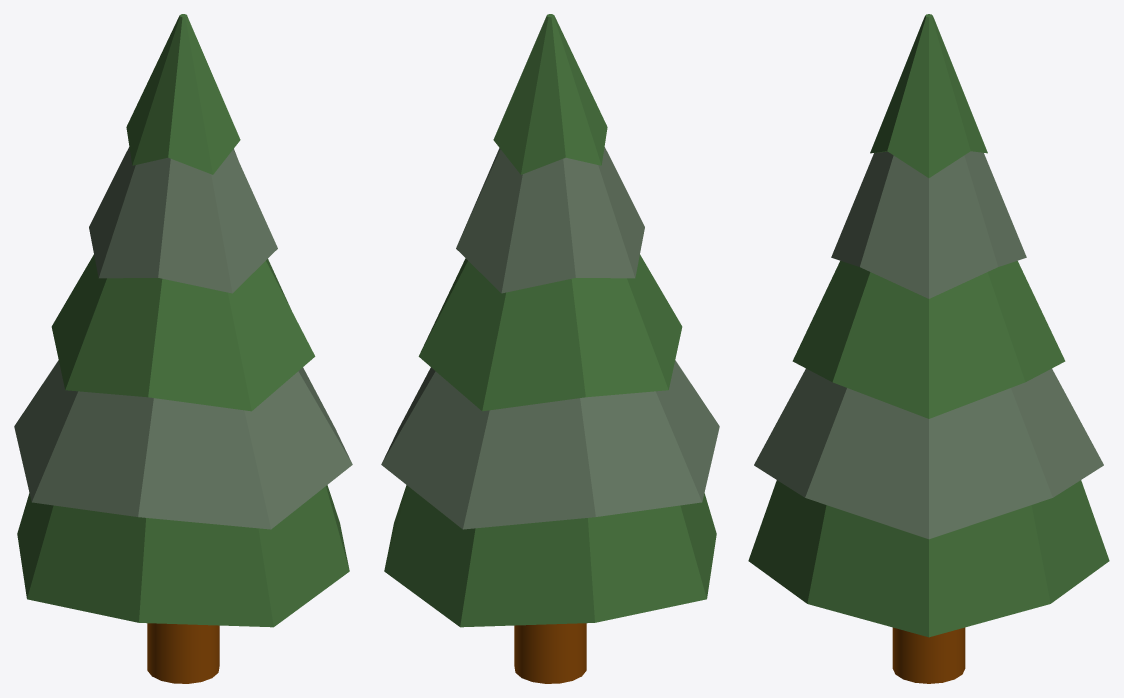
File: Arbol_Anastasia.fbx
The picture shows the model from 3 angles, left to right: view 1: azimuth 30°, elevation 25°; view 2: azimuth 150°, elevation 25°; view 3: azimuth 270°, elevation 25°; orthographic projection.
Parts seen in each view (by area): view 1: Cylinder, Cylinder.001; view 2: Cylinder, Cylinder.001; view 3: Cylinder, Cylinder.001.
Boxes of the visible parts, x1,y1,x2,y2 form: Cylinder: (14,14,352,627); Cylinder.001: (147,623,219,683); Cylinder: (381,14,719,627); Cylinder.001: (514,623,586,683); Cylinder: (748,14,1109,637); Cylinder.001: (892,627,965,683).
Size of the model in its own units: 630 by 1256 by 630.
